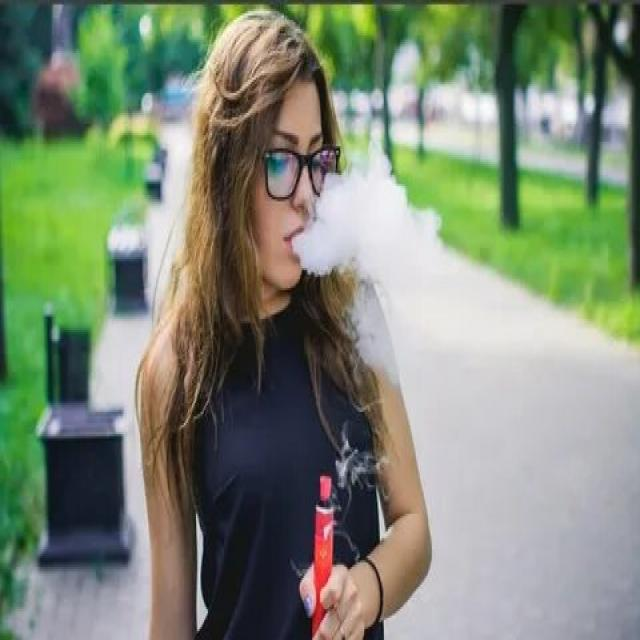cigarette: (308, 469, 339, 640)
